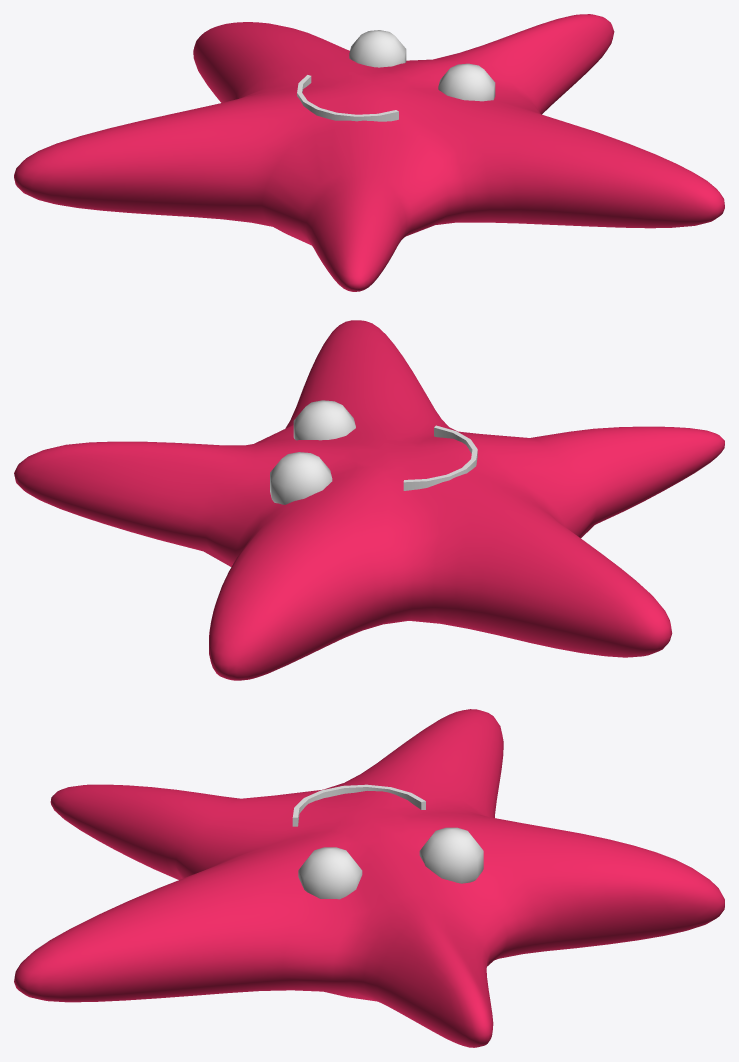
Rendered from Starfish FBX.fbx.
3 renders of one model, top to bottom at view 1: azimuth 30°, elevation 25°; view 2: azimuth 150°, elevation 25°; view 3: azimuth 270°, elevation 25°, orthographic. The views are drawn at different scales.
Visible parts, largest first — view 1: Starfish_4, Sphere002, Sphere001, Tube001; view 2: Starfish_4, Sphere001, Sphere002, Tube001; view 3: Starfish_4, Sphere001, Sphere002, Tube001.
Part boxes in pixels (left/top/right/bottom): Starfish_4: left=14, top=14, right=724, bottom=291; Sphere002: left=438, top=63, right=495, bottom=101; Sphere001: left=349, top=30, right=406, bottom=67; Tube001: left=297, top=75, right=398, bottom=121; Starfish_4: left=14, top=320, right=724, bottom=680; Sphere001: left=270, top=452, right=332, bottom=504; Sphere002: left=293, top=400, right=355, bottom=440; Tube001: left=403, top=425, right=477, bottom=490; Starfish_4: left=14, top=709, right=724, bottom=1047; Sphere001: left=419, top=827, right=483, bottom=883; Sphere002: left=298, top=847, right=362, bottom=899; Tube001: left=292, top=784, right=425, bottom=826.
Size of the model in its own units: 4.2 by 0.8585 by 3.94.
